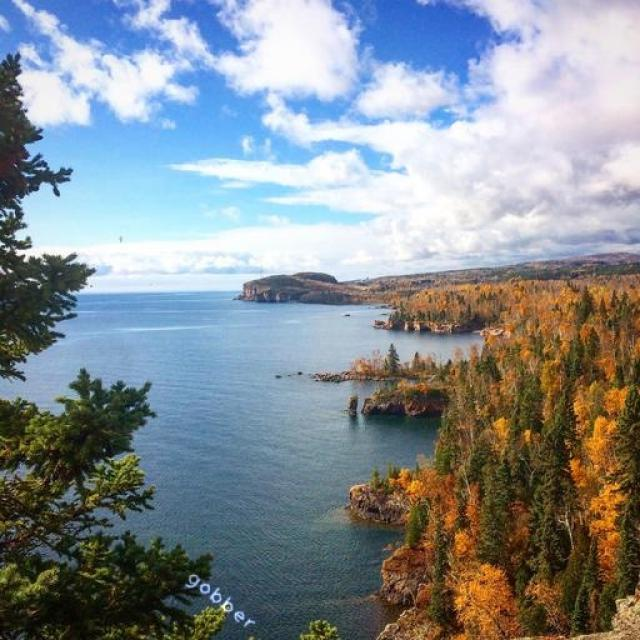watermark: (178, 562, 265, 636)
